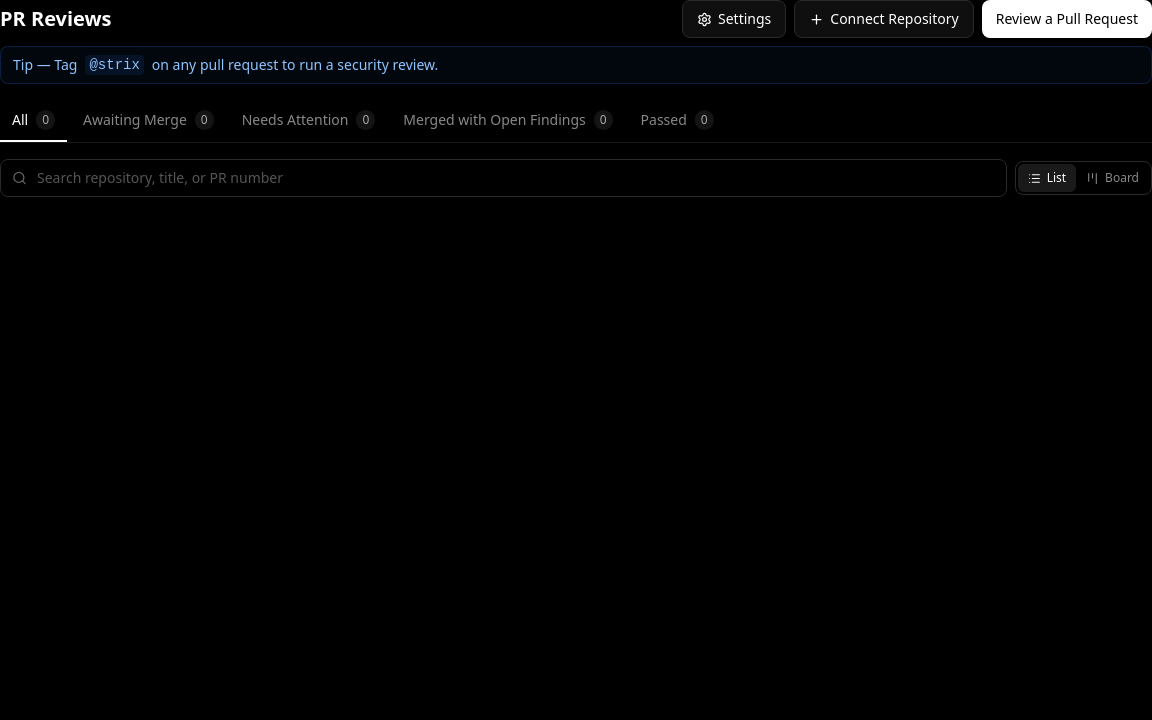
Scenario: PRReviewsList › settings modal › shows nothing but the modal shell while settings load
Click the button "Settings" at (734,19), box [682, 0, 786, 38]
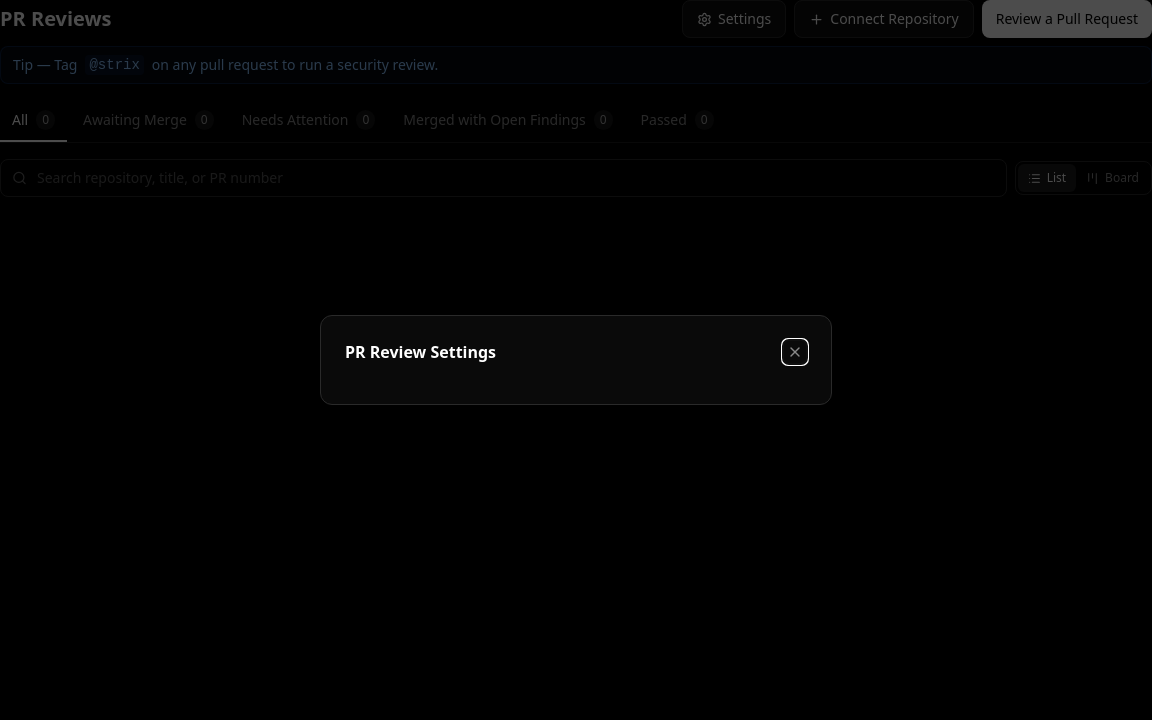
Result: the heading "PR Review Settings" is shown at [345, 340, 496, 364]
